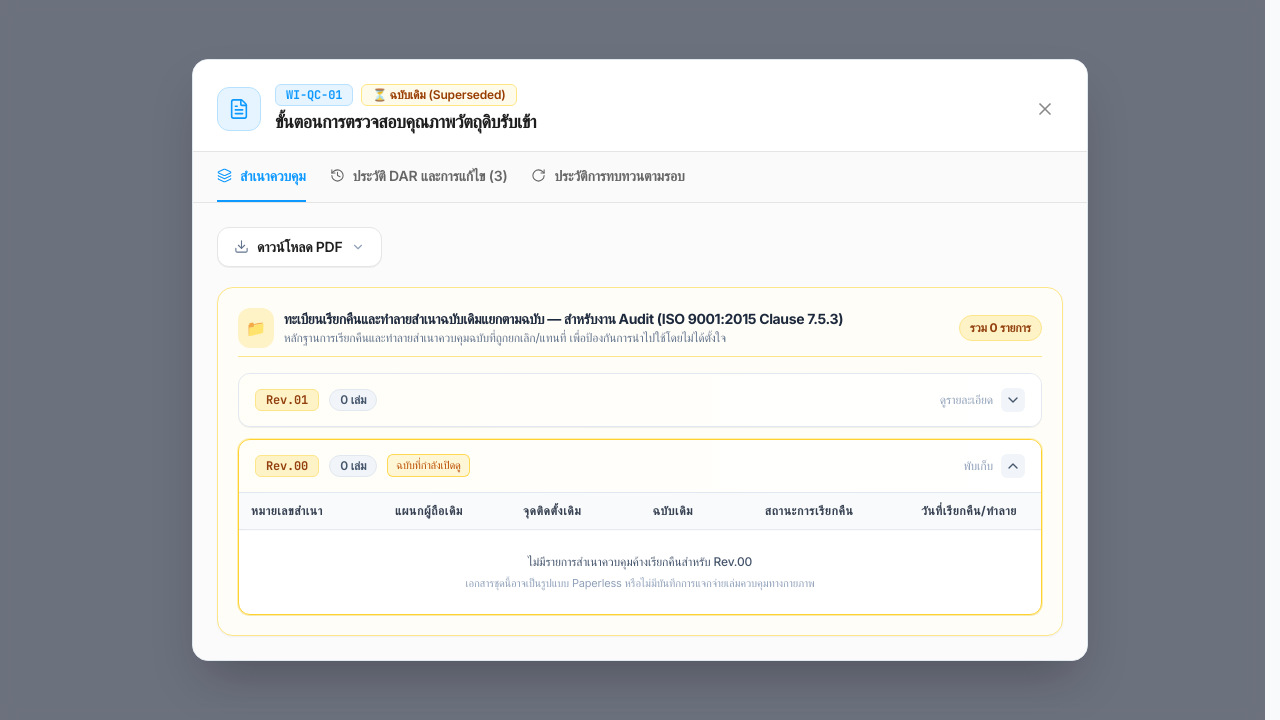
Scenario: Superseded Revision History Overwrite Fix & Persistence Test Suite › 6. DocumentDetailModal for WI-QC-01 Rev.00 displays DAR-2026-001
Click the button "ประวัติ DAR และการแก้ไข (3)": (419,176) [330, 152, 508, 202]
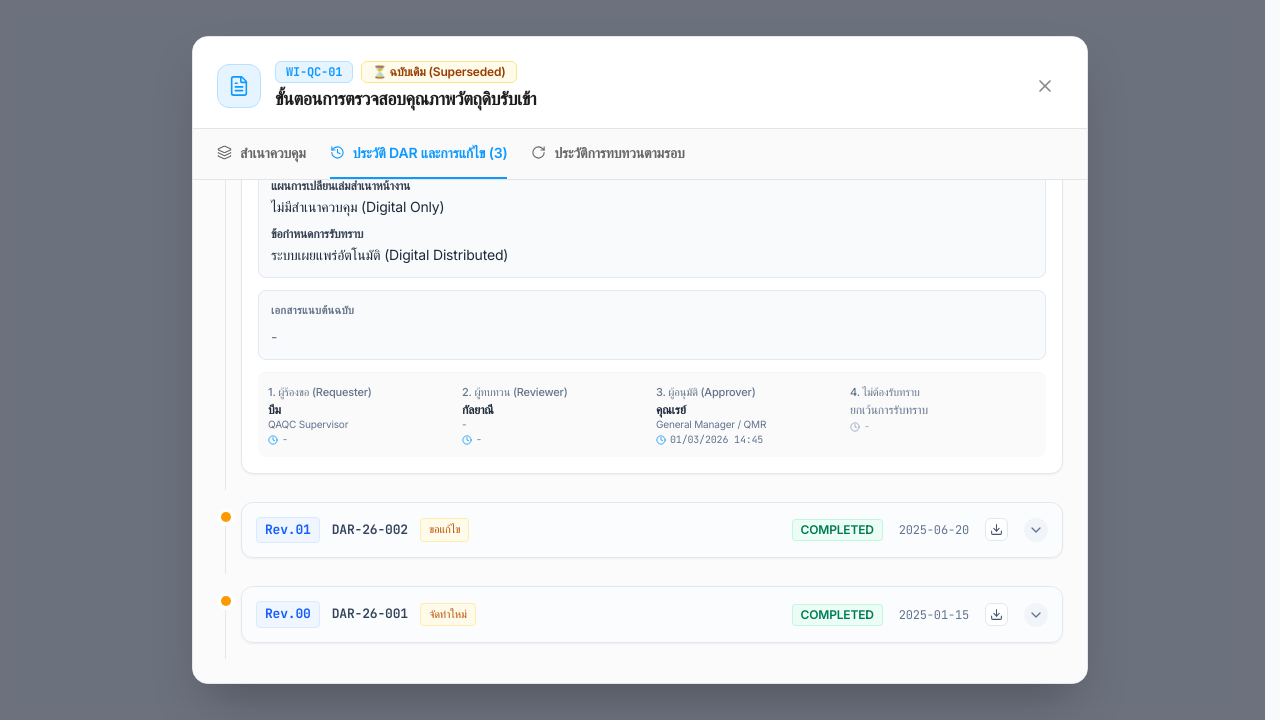
Expected: the text "DAR-26-001" is shown, [332, 604, 408, 625]
